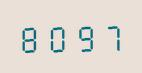eight: (18, 20, 43, 53)
nine: (70, 20, 95, 52)
seven: (96, 19, 121, 52)
zero: (44, 20, 69, 53)
